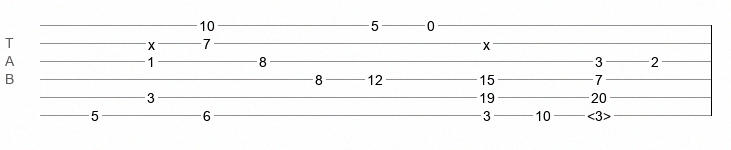0: (427, 18, 435, 28)
1: (147, 54, 155, 64)
10: (199, 18, 215, 28), (535, 108, 551, 118)
12: (367, 72, 383, 82)
15: (479, 72, 495, 82)
19: (479, 90, 495, 100)
2: (651, 54, 659, 64)
20: (591, 90, 607, 100)
3: (147, 90, 155, 100), (483, 108, 491, 118), (595, 54, 603, 64)
5: (91, 108, 99, 118), (371, 18, 379, 28)
6: (203, 108, 211, 118)
7: (203, 36, 211, 46), (595, 72, 603, 82)
8: (259, 54, 267, 64), (315, 72, 323, 82)
harmonic: (587, 108, 611, 118)
x: (148, 37, 155, 45), (483, 37, 490, 45)
